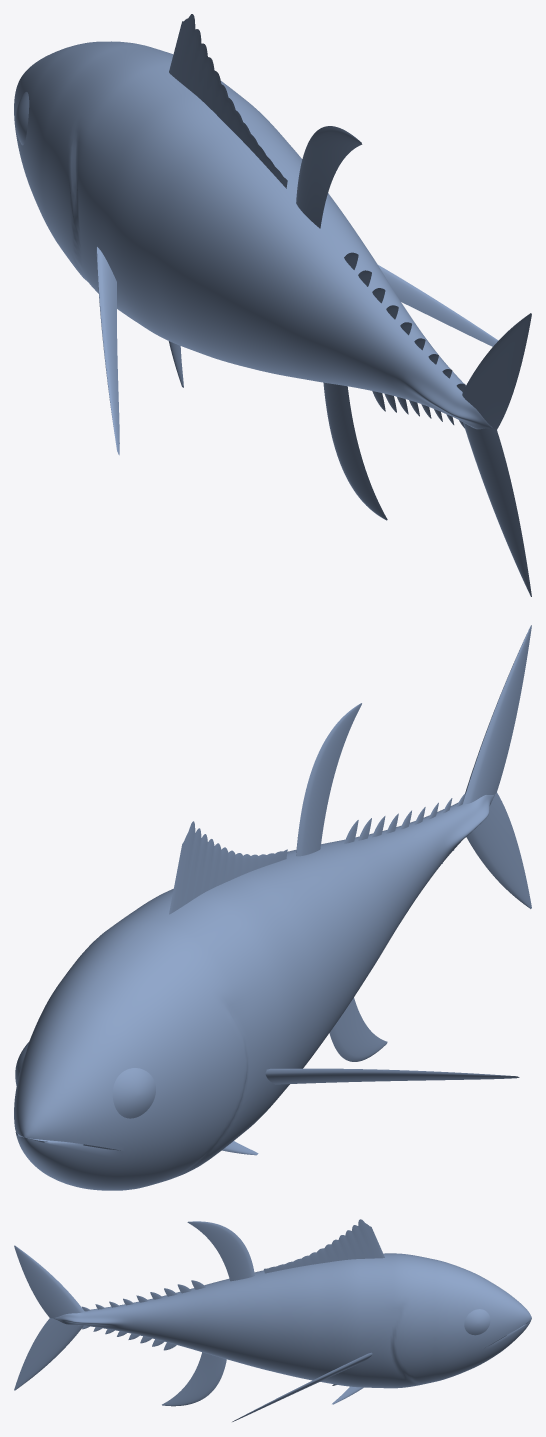
File: bigeye_tuna.glb
The picture shows the model from 3 angles, top to bottom: view 1: azimuth 30°, elevation 25°; view 2: azimuth 150°, elevation 25°; view 3: azimuth 270°, elevation 25°; orthographic projection. The views are drawn at different scales.
Parts seen in each view (by area): view 1: bigeye_tuna; view 2: bigeye_tuna; view 3: bigeye_tuna.
Boxes of the visible parts, bbox=[...] form: bigeye_tuna: bbox=[14, 14, 531, 596]; bigeye_tuna: bbox=[14, 625, 531, 1190]; bigeye_tuna: bbox=[14, 1219, 531, 1421].
Bounding box in the file's own units: 0.8206 × 0.7162 × 1.8.
